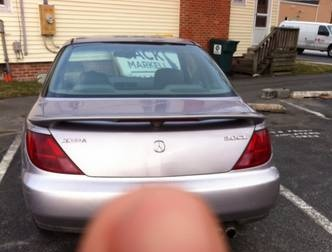acura: (14, 29, 280, 185)
